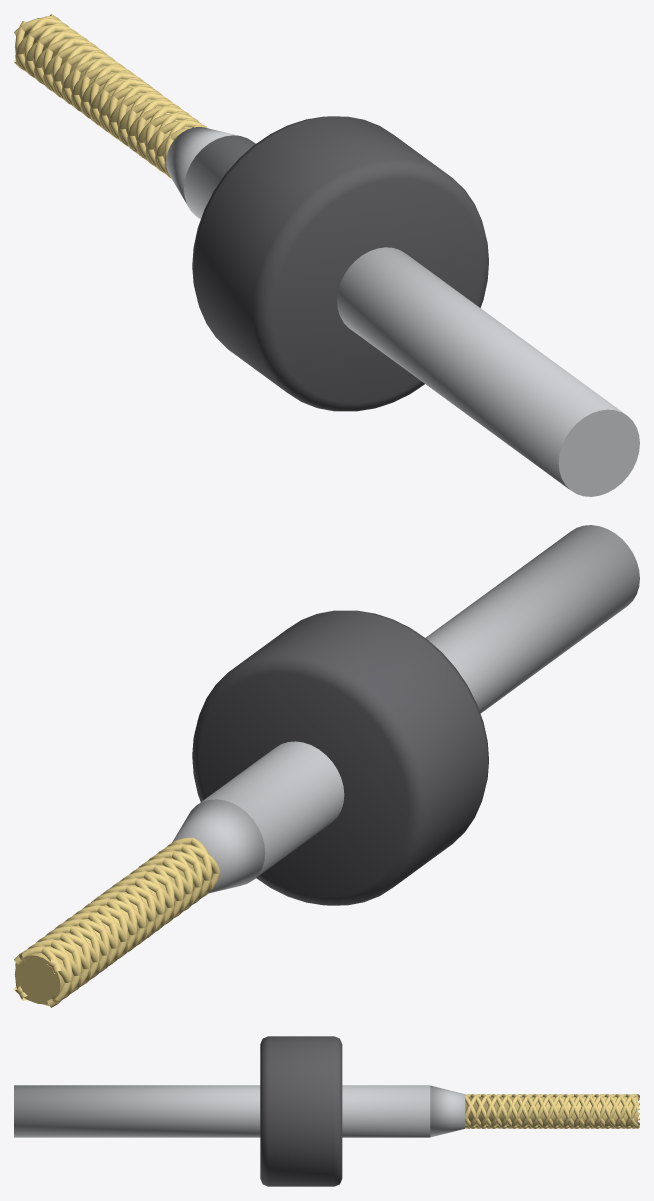
File: corn18_2p1.glb
3 renders of one model, top to bottom at view 1: azimuth 30°, elevation 25°; view 2: azimuth 150°, elevation 25°; view 3: azimuth 270°, elevation 25°, orthographic. The views are drawn at different scales.
Visible parts, largest first — view 1: Cylinder.002, Cylinder.001, Cone, flute.005, flute.002, flute.004, flute.003, flute.007, flute, flute.001, flute.006, Cylinder; view 2: Cylinder.002, Cylinder.001, Cone, Cylinder, flute.003, flute.004, flute.005, flute.002, flute.006, flute.001, flute.007, flute; view 3: Cylinder.001, Cylinder.002, Cone, Cylinder, flute, flute.003, flute.001, flute.002, flute.006, flute.004, flute.007, flute.005.
Part boxes in pixels (<box>): Cylinder.002: <box>192,116,488,411</box>; Cylinder.001: <box>184,135,639,496</box>; Cone: <box>166,127,239,205</box>; flute.005: <box>15,21,198,161</box>; flute.002: <box>14,18,192,170</box>; flute.004: <box>15,24,191,177</box>; flute.003: <box>24,16,207,166</box>; flute.007: <box>14,29,188,178</box>; flute: <box>34,14,207,163</box>; flute.001: <box>34,22,179,173</box>; flute.006: <box>24,31,201,157</box>; Cylinder: <box>14,17,189,161</box>; Cylinder.002: <box>192,610,488,905</box>; Cylinder.001: <box>197,525,639,879</box>; Cone: <box>172,799,265,893</box>; Cylinder: <box>14,844,213,1004</box>; flute.003: <box>14,837,193,990</box>; flute.004: <box>37,855,219,1007</box>; flute.005: <box>45,844,220,997</box>; flute.002: <box>28,837,211,986</box>; flute.006: <box>14,849,193,1002</box>; flute.001: <box>15,857,202,1000</box>; flute.007: <box>36,850,211,1005</box>; flute: <box>15,842,202,993</box>; Cylinder.001: <box>14,1085,430,1137</box>; Cylinder.002: <box>260,1036,342,1186</box>; Cone: <box>430,1085,465,1137</box>; Cylinder: <box>465,1097,637,1125</box>; flute: <box>465,1094,639,1128</box>; flute.003: <box>465,1094,639,1128</box>; flute.001: <box>465,1094,639,1128</box>; flute.002: <box>465,1094,639,1128</box>; flute.006: <box>465,1094,639,1128</box>; flute.004: <box>475,1094,639,1128</box>; flute.007: <box>481,1094,639,1128</box>; flute.005: <box>470,1094,639,1128</box>.
Bounding box in the file's own units: 0.00917 × 0.00917 × 0.0381.
